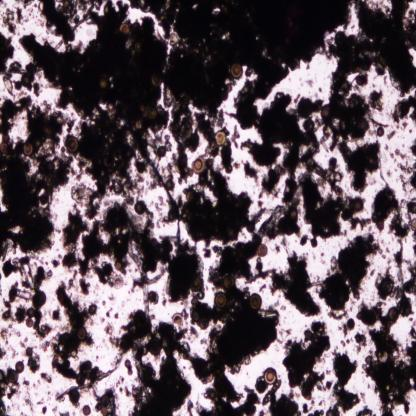Background material: (144, 0, 349, 206), (16, 11, 181, 208), (0, 94, 74, 258), (111, 311, 190, 416), (193, 293, 278, 377), (346, 0, 416, 94), (77, 200, 154, 277), (314, 71, 372, 156), (363, 323, 416, 416), (184, 353, 262, 416), (318, 232, 378, 308), (279, 317, 333, 395), (49, 279, 96, 355), (204, 234, 261, 292), (278, 250, 320, 315), (338, 134, 381, 193), (328, 30, 371, 74), (60, 202, 88, 268), (330, 351, 358, 416), (259, 379, 302, 416), (37, 0, 74, 42), (370, 180, 398, 233), (52, 354, 100, 382), (70, 182, 107, 215), (73, 0, 109, 32), (389, 196, 416, 238), (356, 298, 390, 330), (245, 268, 283, 296), (105, 0, 151, 23), (0, 31, 22, 77), (390, 89, 416, 126), (392, 158, 416, 198), (92, 382, 119, 416), (11, 256, 35, 290), (34, 306, 56, 341), (0, 366, 20, 400), (24, 62, 44, 94), (94, 258, 115, 287), (394, 236, 410, 271), (274, 328, 296, 352), (7, 281, 32, 302), (401, 262, 416, 297), (366, 90, 386, 116), (34, 268, 55, 292), (0, 298, 17, 324), (0, 324, 22, 344), (228, 122, 243, 151), (155, 194, 166, 230), (397, 297, 415, 318), (23, 378, 34, 412), (78, 276, 93, 300), (242, 161, 258, 183), (65, 266, 78, 293), (326, 308, 348, 323), (350, 216, 372, 231), (2, 16, 18, 36), (2, 73, 15, 97), (354, 332, 368, 354), (27, 352, 40, 375), (130, 277, 144, 295), (15, 9, 28, 27), (385, 257, 395, 280), (356, 405, 376, 416), (14, 306, 26, 324), (38, 338, 53, 352), (2, 260, 14, 277), (148, 288, 160, 305), (371, 117, 389, 128), (281, 234, 290, 256), (200, 244, 212, 260), (223, 161, 233, 180), (407, 137, 416, 158), (185, 398, 195, 416), (0, 398, 10, 416), (121, 258, 130, 278), (410, 228, 416, 258), (190, 326, 200, 344), (7, 344, 19, 359), (391, 285, 402, 301), (272, 300, 286, 312), (376, 270, 382, 298), (212, 242, 223, 257), (395, 149, 410, 160), (104, 321, 115, 335), (302, 400, 313, 414), (40, 372, 52, 384), (246, 221, 257, 234), (380, 239, 390, 253), (14, 78, 23, 93), (116, 378, 125, 393), (359, 389, 367, 405), (339, 324, 348, 338), (272, 241, 281, 255), (318, 251, 326, 266), (143, 180, 150, 196), (387, 129, 397, 140), (181, 312, 191, 323), (104, 307, 113, 319), (340, 338, 350, 348), (29, 2, 36, 16), (15, 0, 31, 6), (28, 251, 38, 260), (368, 176, 377, 186), (50, 260, 61, 268), (303, 79, 314, 87), (58, 410, 72, 416), (379, 247, 386, 259), (0, 347, 6, 361), (19, 338, 28, 347), (70, 402, 80, 410), (46, 391, 53, 402), (94, 285, 100, 297), (36, 396, 45, 404), (382, 74, 388, 86), (107, 292, 115, 301), (326, 380, 332, 391), (383, 143, 391, 151), (111, 311, 119, 319), (254, 256, 262, 264), (340, 228, 348, 236), (409, 316, 416, 325), (51, 406, 58, 414), (401, 122, 408, 130), (385, 170, 392, 178), (371, 266, 376, 277), (125, 387, 131, 396), (42, 407, 48, 416), (82, 390, 89, 397), (325, 268, 331, 276), (128, 367, 134, 375), (100, 316, 106, 324), (0, 0, 6, 8), (38, 257, 44, 265), (56, 227, 62, 235), (6, 405, 12, 412), (31, 262, 38, 268), (321, 400, 327, 407), (311, 252, 316, 260), (317, 86, 322, 94), (36, 377, 40, 387), (20, 411, 28, 416), (122, 300, 126, 309), (100, 300, 106, 306), (96, 344, 104, 348), (236, 162, 240, 170), (390, 152, 394, 160), (372, 80, 376, 88), (164, 300, 168, 307), (0, 283, 2, 296), (57, 254, 62, 259), (408, 129, 413, 134), (32, 383, 36, 389), (307, 412, 313, 416), (128, 268, 132, 273), (72, 411, 76, 416), (328, 369, 331, 375), (34, 392, 38, 396), (134, 268, 138, 272), (0, 274, 2, 281), (18, 405, 20, 411), (24, 4, 26, 10), (46, 261, 48, 266)
Cellulose filter fibre: (257, 169, 311, 239), (56, 354, 123, 400), (299, 137, 341, 197), (126, 235, 150, 321)
Cotton: (145, 151, 183, 253)
Diatom: (296, 96, 314, 118), (190, 154, 206, 176), (365, 152, 380, 172), (148, 338, 164, 355), (263, 367, 278, 385), (32, 290, 46, 309), (66, 134, 79, 154), (214, 291, 228, 309), (230, 63, 245, 79), (222, 273, 236, 290), (249, 293, 263, 310), (132, 201, 148, 215), (42, 122, 56, 138), (214, 130, 228, 146), (356, 116, 368, 134), (75, 326, 88, 342), (190, 275, 202, 292), (381, 276, 392, 294), (302, 118, 316, 132), (387, 306, 400, 321), (151, 72, 163, 88), (170, 312, 183, 326), (69, 389, 81, 404), (377, 350, 389, 365), (221, 144, 232, 160), (23, 141, 33, 158), (97, 77, 110, 90), (44, 173, 56, 187), (133, 38, 144, 53), (354, 198, 365, 212), (119, 22, 130, 36), (2, 240, 9, 262), (136, 160, 147, 174), (257, 244, 268, 257), (62, 1, 73, 14), (113, 276, 124, 289), (103, 154, 114, 167), (401, 14, 411, 28), (320, 137, 329, 152), (87, 304, 98, 316), (199, 318, 210, 330), (137, 100, 148, 112), (157, 145, 168, 157), (346, 317, 356, 330), (9, 370, 19, 383), (22, 74, 32, 87), (5, 8, 15, 21), (81, 404, 91, 416), (148, 107, 158, 119), (165, 178, 175, 190), (107, 99, 116, 112), (15, 362, 24, 375), (356, 73, 364, 87), (323, 104, 330, 120), (24, 317, 34, 328), (192, 310, 201, 322), (257, 380, 266, 392), (25, 306, 34, 318), (255, 261, 264, 272), (208, 389, 216, 401), (1, 141, 8, 154), (140, 346, 149, 356), (205, 372, 213, 383), (101, 395, 109, 406), (376, 125, 384, 136), (289, 208, 297, 219), (25, 346, 32, 357), (310, 239, 318, 248), (115, 261, 123, 270), (411, 217, 416, 231), (100, 407, 108, 415), (365, 355, 372, 364), (325, 410, 334, 416), (70, 349, 76, 358), (313, 409, 320, 416), (7, 392, 12, 400), (320, 408, 325, 416), (125, 360, 130, 367)
